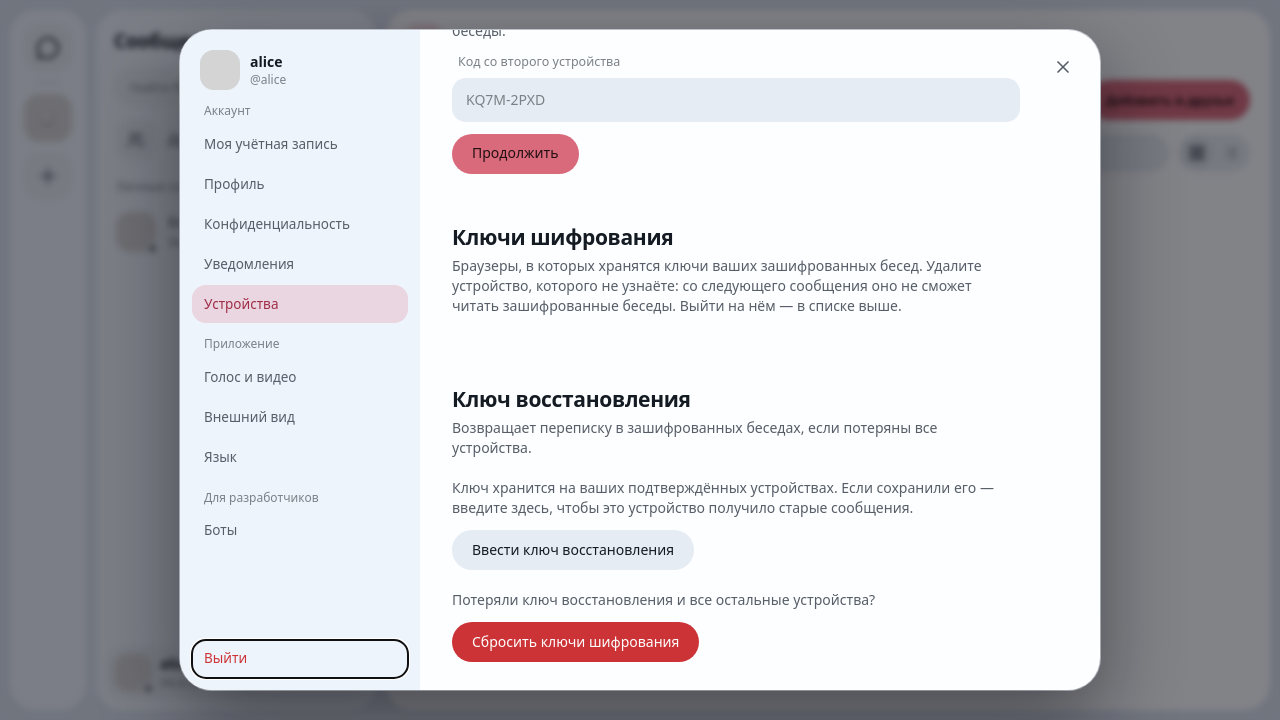
it: the recovery key › can be reset from settings, after a warning, when everything is lost
(page scrolled)
Click the button "Сбросить ключи шифрования": click(576, 642) [452,622,699,662]
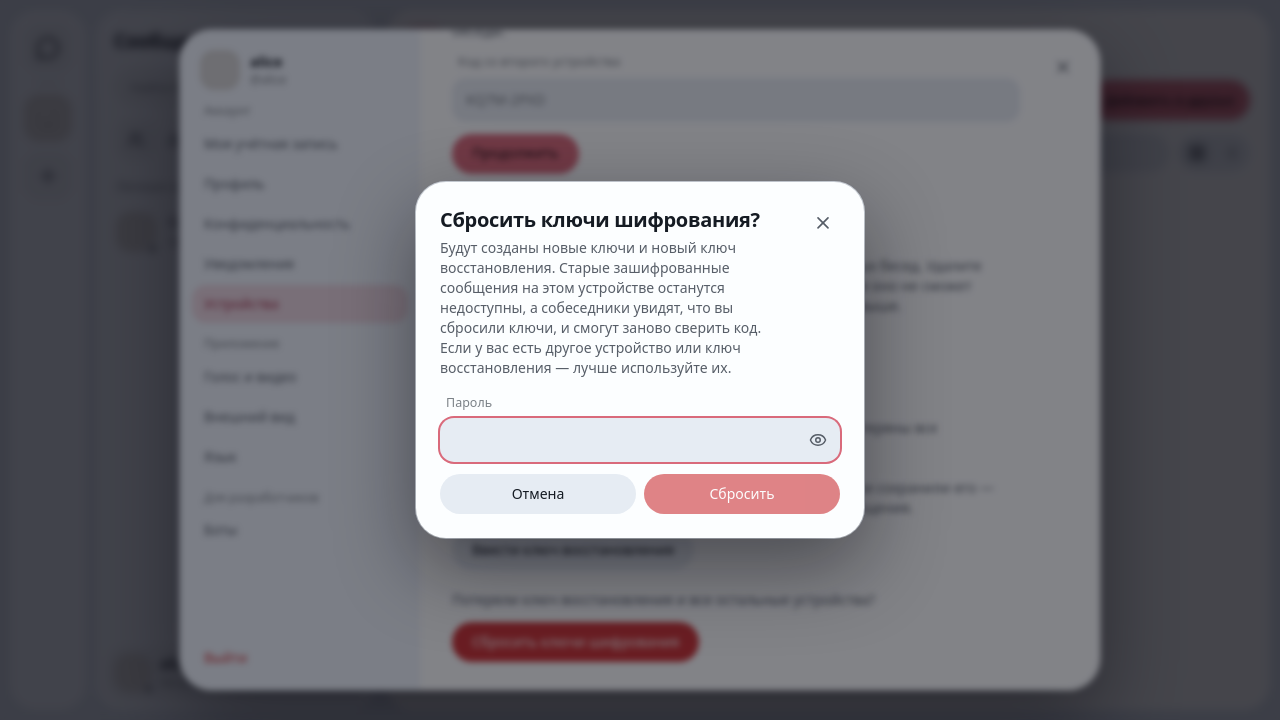
Now the dialog "Сбросить ключи шифрования?" shows "собеседники увидят", box [440,238,761,377]
Now the button "Сбросить" is disabled, box [644,474,840,514]
In the password field labelled "Пароль": (621, 440) [440,418,802,462], type "wrong"
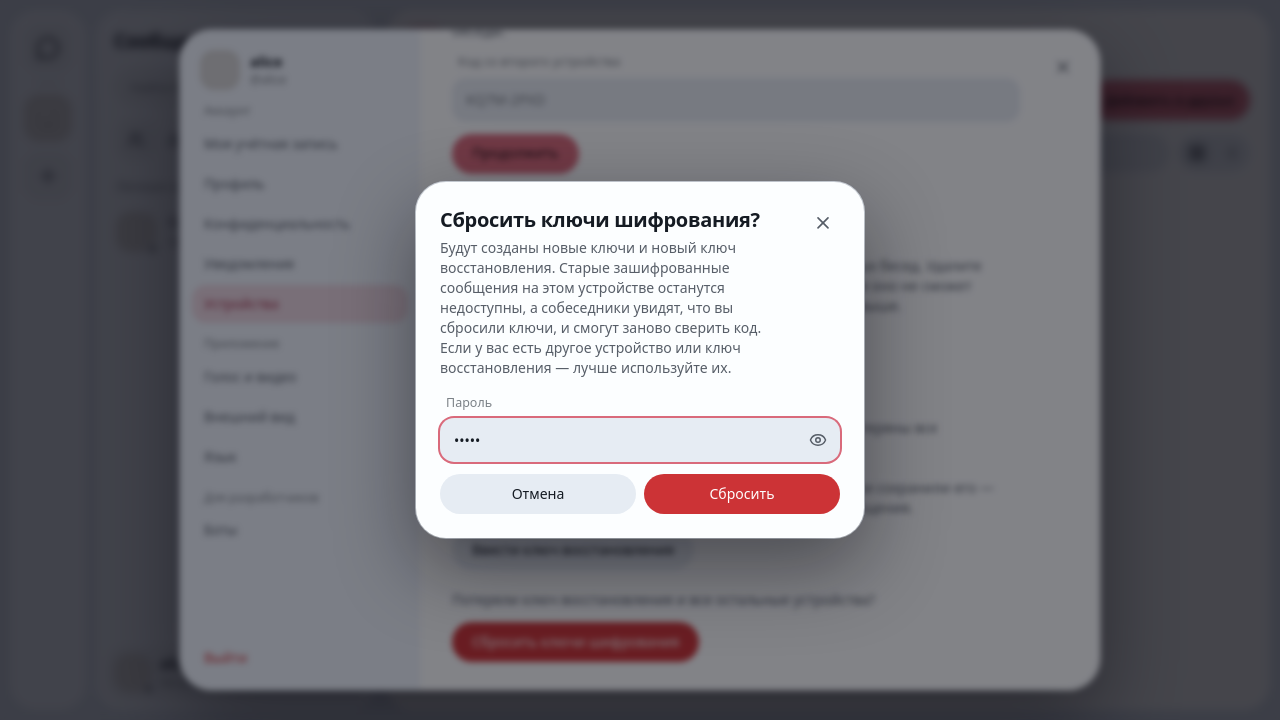
Click the button named "Показать пароль": click(818, 440) [802,424,834,456]
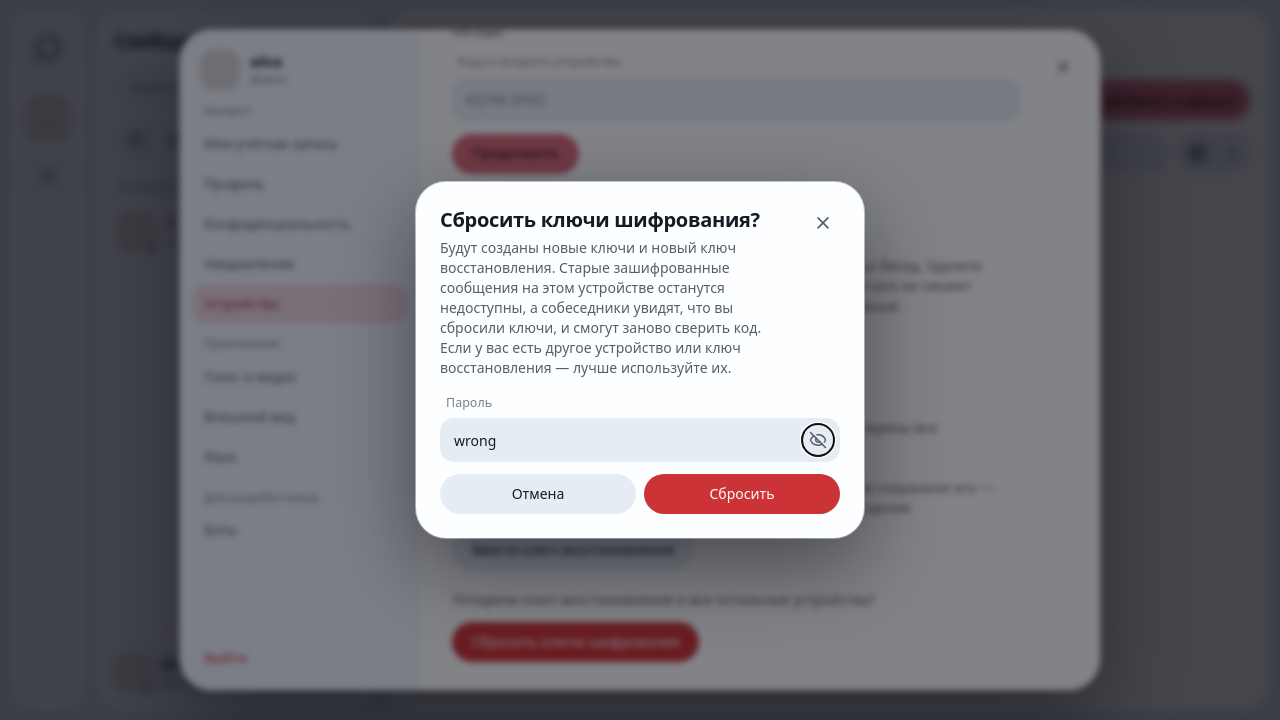
Now the field labelled "Пароль" shows its text, box [440,418,802,462]
Click the button named "Скрыть пароль": click(818, 440) [802,424,834,456]
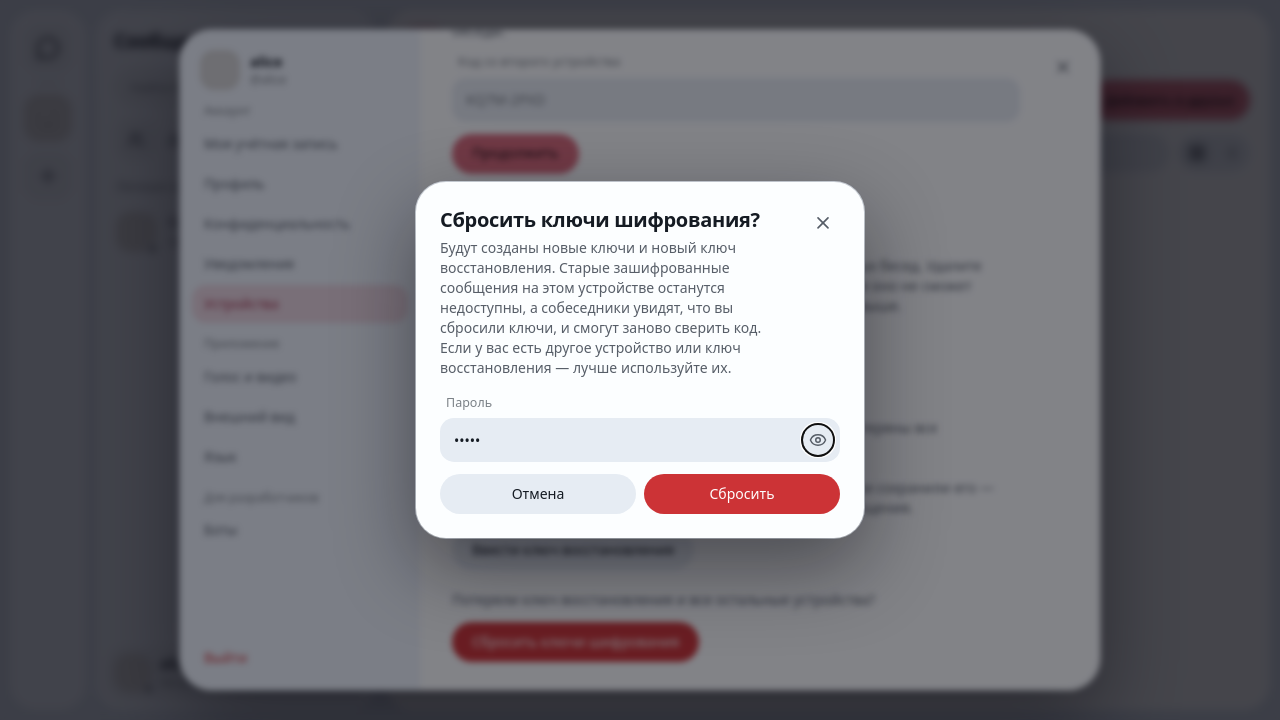
Now the password field labelled "Пароль" hides its text, box [440,418,802,462]
Click the button "Сбросить": click(742, 494) [644,474,840,514]
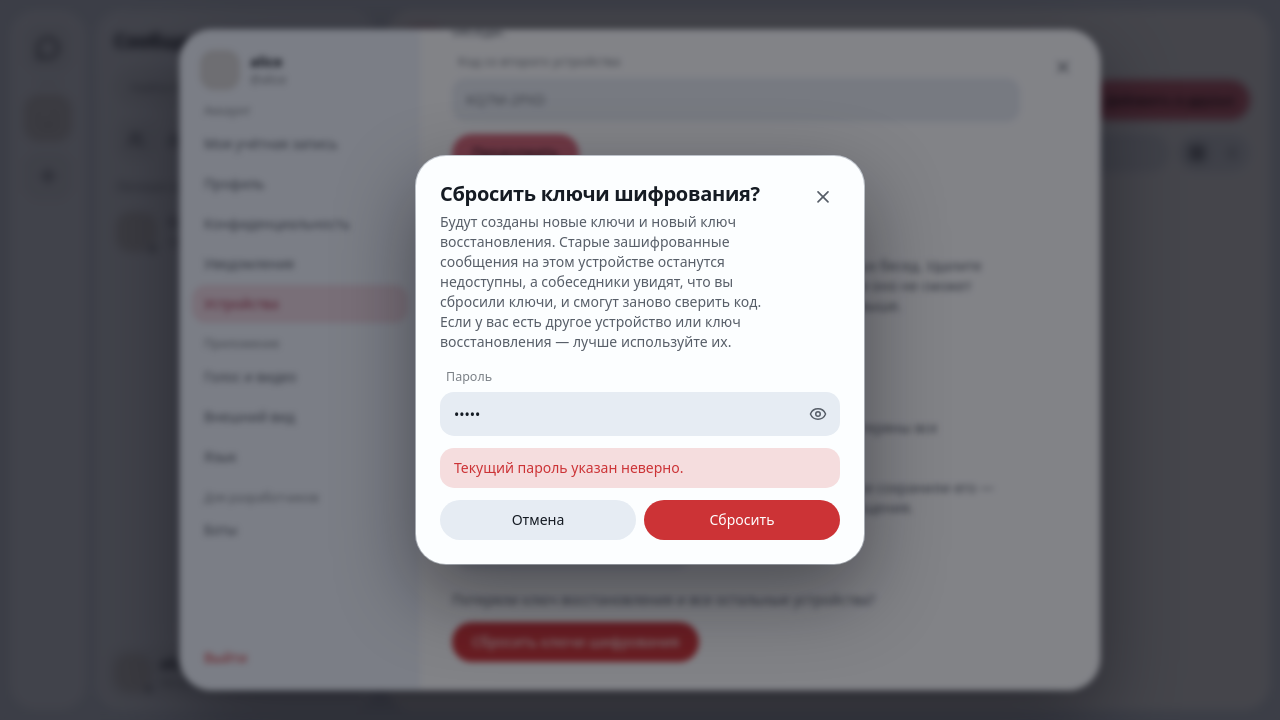
Now the text "Текущий пароль указан неверно." is shown, box [440,448,840,488]
In the password field labelled "Пароль": (621, 414) [440,392,802,436], type "password123"
Click the button "Сбросить": click(742, 520) [644,500,840,540]
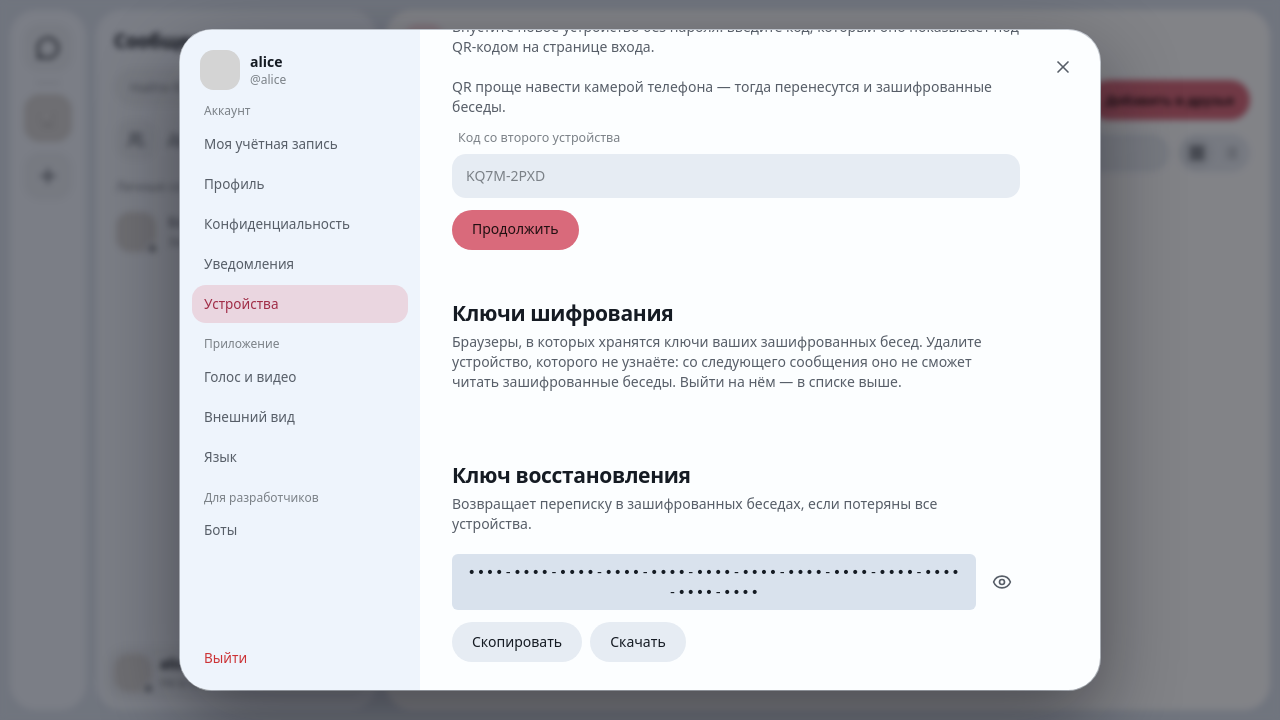
Now the button "Сбросить ключи шифрования?" is gone
